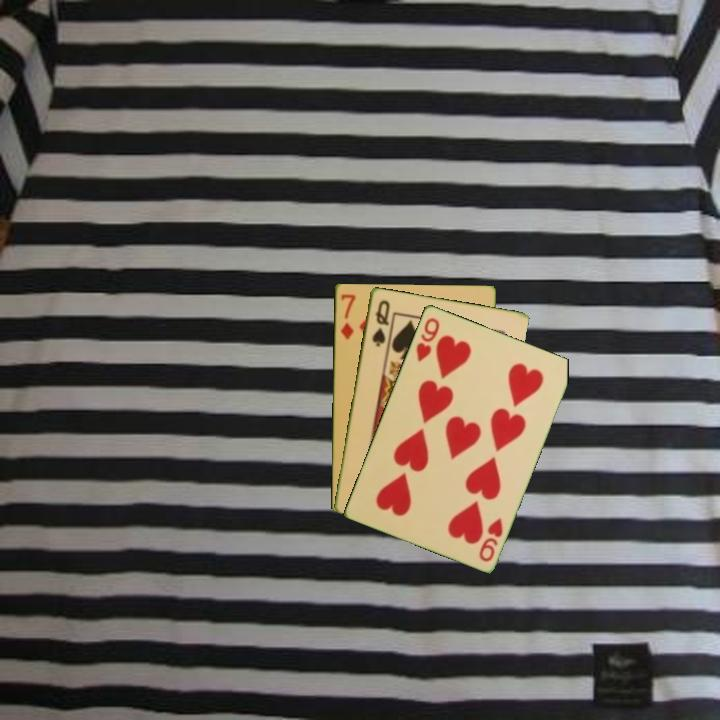7d: (337, 290, 358, 342)
9h: (475, 514, 506, 565), (412, 314, 442, 364)
Qs: (368, 296, 392, 349)
